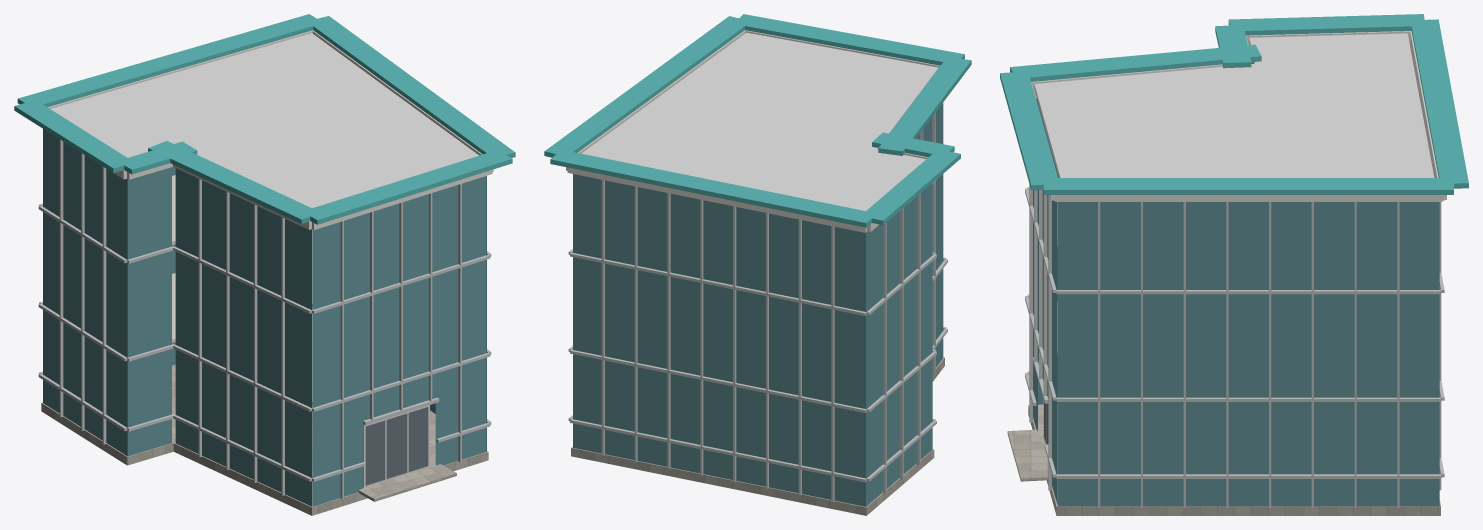
3 renders of one model, left to right at view 1: azimuth 30°, elevation 25°; view 2: azimuth 150°, elevation 25°; view 3: azimuth 270°, elevation 25°, orthographic. The views are drawn at different scales.
Visible parts, largest first — view 1: west-hall__curtainglass, west-hall__roof, west-hall__teal, west-hall__mullion, west-hall__stone, west-hall__doorglass, west-hall__wall, west-hall__threshold-s0, west-hall__soffit, west-hall__frame; view 2: west-hall__curtainglass, west-hall__roof, west-hall__teal, west-hall__mullion, west-hall__stone, west-hall__wall; view 3: west-hall__curtainglass, west-hall__roof, west-hall__teal, west-hall__mullion, west-hall__wall, west-hall__stone, west-hall__threshold-s0.
Part boxes in pixels (x1=…): west-hall__curtainglass: x1=43, y1=129, x2=486, y2=506; west-hall__roof: x1=50, y1=33, x2=478, y2=208; west-hall__teal: x1=14, y1=14, x2=515, y2=224; west-hall__mullion: x1=38, y1=139, x2=491, y2=499; west-hall__stone: x1=41, y1=364, x2=488, y2=515; west-hall__doorglass: x1=363, y1=407, x2=428, y2=487; west-hall__wall: x1=48, y1=30, x2=493, y2=229; west-hall__threshold-s0: x1=358, y1=464, x2=456, y2=501; west-hall__soffit: x1=172, y1=175, x2=312, y2=405; west-hall__frame: x1=364, y1=405, x2=429, y2=487; west-hall__curtainglass: x1=573, y1=102, x2=943, y2=506; west-hall__roof: x1=582, y1=32, x2=938, y2=210; west-hall__teal: x1=544, y1=14, x2=971, y2=227; west-hall__mullion: x1=568, y1=112, x2=947, y2=502; west-hall__stone: x1=571, y1=357, x2=944, y2=515; west-hall__wall: x1=566, y1=30, x2=940, y2=232; west-hall__curtainglass: x1=1033, y1=62, x2=1439, y2=506; west-hall__roof: x1=1034, y1=33, x2=1434, y2=177; west-hall__teal: x1=1000, y1=14, x2=1468, y2=194; west-hall__mullion: x1=1025, y1=184, x2=1444, y2=508; west-hall__wall: x1=1031, y1=31, x2=1446, y2=201; west-hall__stone: x1=1028, y1=403, x2=1440, y2=515; west-hall__threshold-s0: x1=1007, y1=429, x2=1048, y2=481.
Size of the model in its own units: 14.73 by 13.16 by 16.58.
Materials: 9 (1 with a texture image).
